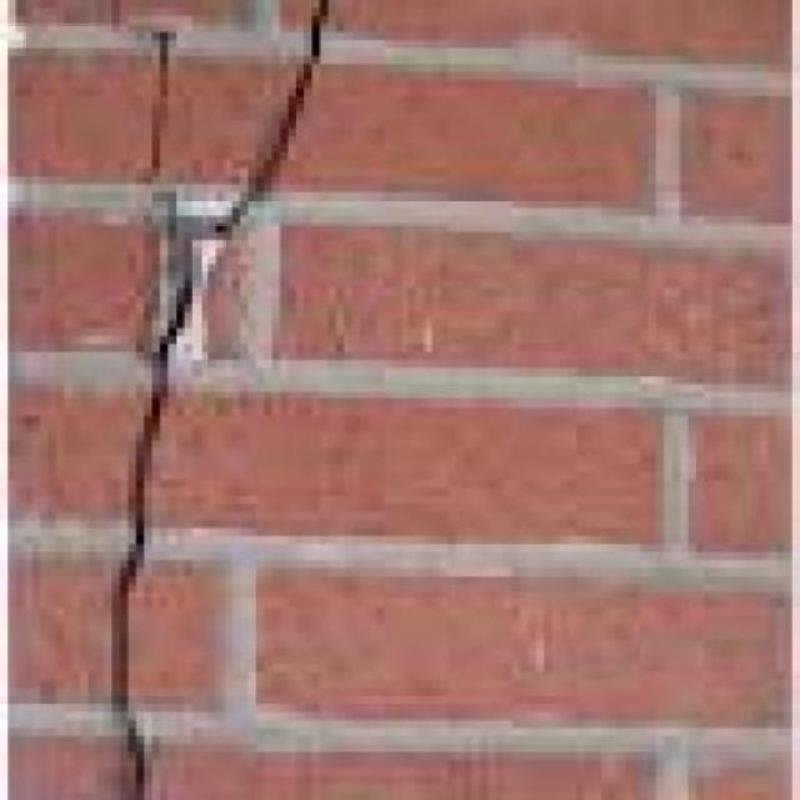pothole: (111, 275, 193, 799), (212, 0, 327, 238), (111, 1, 182, 244)
